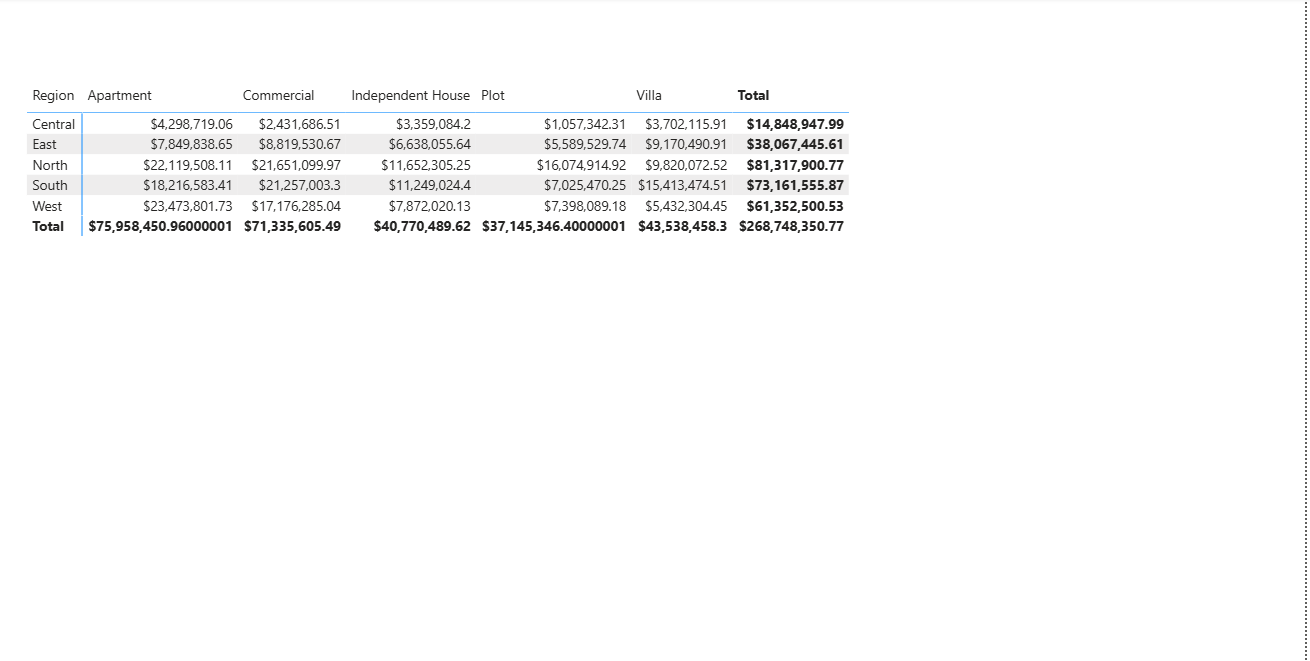

What the dashboard file says about the page in this screenshot:
{"tool":"powerbi","page":{"name":"Matrix Analysis","canvas":[1280,720],"ordinal":1},"visuals":[{"type":"pivotTable","fields":{"Rows":["Agents.Region"],"Columns":["Property_Sales.Property_Type"],"Values":["Property_Sales.Total Sales Value"]},"box":[17.1,26.9,820.5,174.9],"z":0}]}

Visuals, with their boxes on the page's 1280x720 design canvas (x1, y1, x2, y2). These are canvas units, not pixel positions in the 1310x661 screenshot, which may show the page scaled, cropped or inside an application window:
pivotTable - Agents.Region x Property_Sales.Property_Type: x1=17, y1=27, x2=838, y2=202
